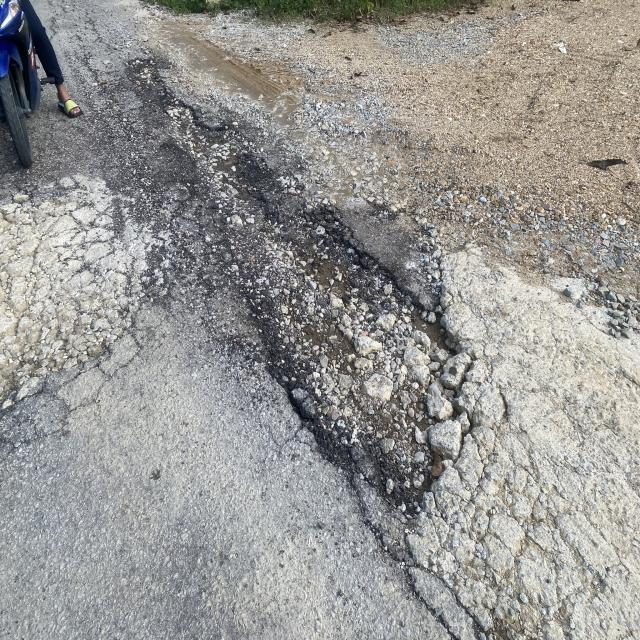pothole: (131, 70, 499, 512)
